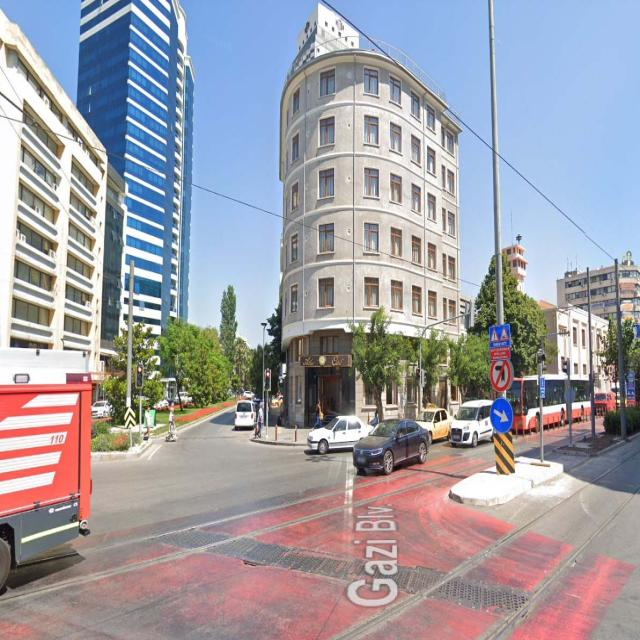kirmizi: (264, 367, 270, 391), (136, 364, 143, 384)
soladonulmez: (490, 357, 512, 391)
